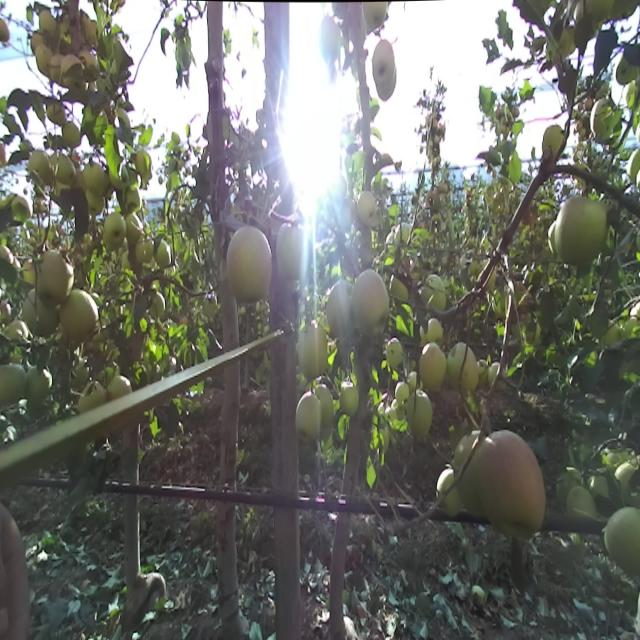apple: (475, 429, 545, 536), (554, 195, 606, 267), (227, 225, 271, 302), (352, 270, 386, 334), (605, 509, 640, 571), (453, 435, 480, 512), (60, 290, 98, 343), (35, 251, 73, 302), (277, 222, 306, 279), (297, 326, 328, 378), (448, 341, 478, 391), (24, 290, 56, 336), (327, 280, 352, 336), (419, 343, 446, 387), (436, 467, 460, 516), (296, 392, 320, 441), (408, 389, 432, 436), (1, 364, 24, 406), (590, 97, 612, 140), (372, 41, 394, 82), (567, 486, 595, 518), (25, 366, 52, 399), (317, 384, 334, 435), (78, 381, 105, 413), (321, 16, 340, 60), (62, 54, 85, 89), (424, 275, 446, 311), (104, 213, 125, 247), (83, 162, 105, 194), (362, 0, 387, 28), (558, 467, 580, 498), (542, 126, 563, 158), (340, 381, 358, 416), (357, 191, 376, 224), (616, 56, 638, 84), (28, 150, 49, 178), (108, 374, 132, 398), (39, 9, 57, 38), (57, 155, 75, 183), (377, 77, 396, 102), (62, 122, 80, 148), (35, 45, 50, 76), (126, 213, 143, 240), (391, 275, 408, 302), (136, 236, 153, 262), (155, 241, 171, 268), (387, 338, 402, 366), (82, 49, 97, 77), (5, 321, 28, 339), (85, 191, 103, 214), (426, 318, 443, 342), (123, 188, 141, 210), (627, 150, 640, 180), (489, 362, 504, 388), (49, 54, 62, 83), (46, 103, 64, 123), (151, 293, 165, 318), (109, 170, 128, 188), (23, 260, 36, 284), (477, 358, 488, 384), (408, 371, 423, 390), (396, 223, 410, 242), (396, 382, 408, 403), (31, 33, 44, 51), (0, 18, 9, 43), (0, 142, 9, 167), (419, 325, 426, 346)
